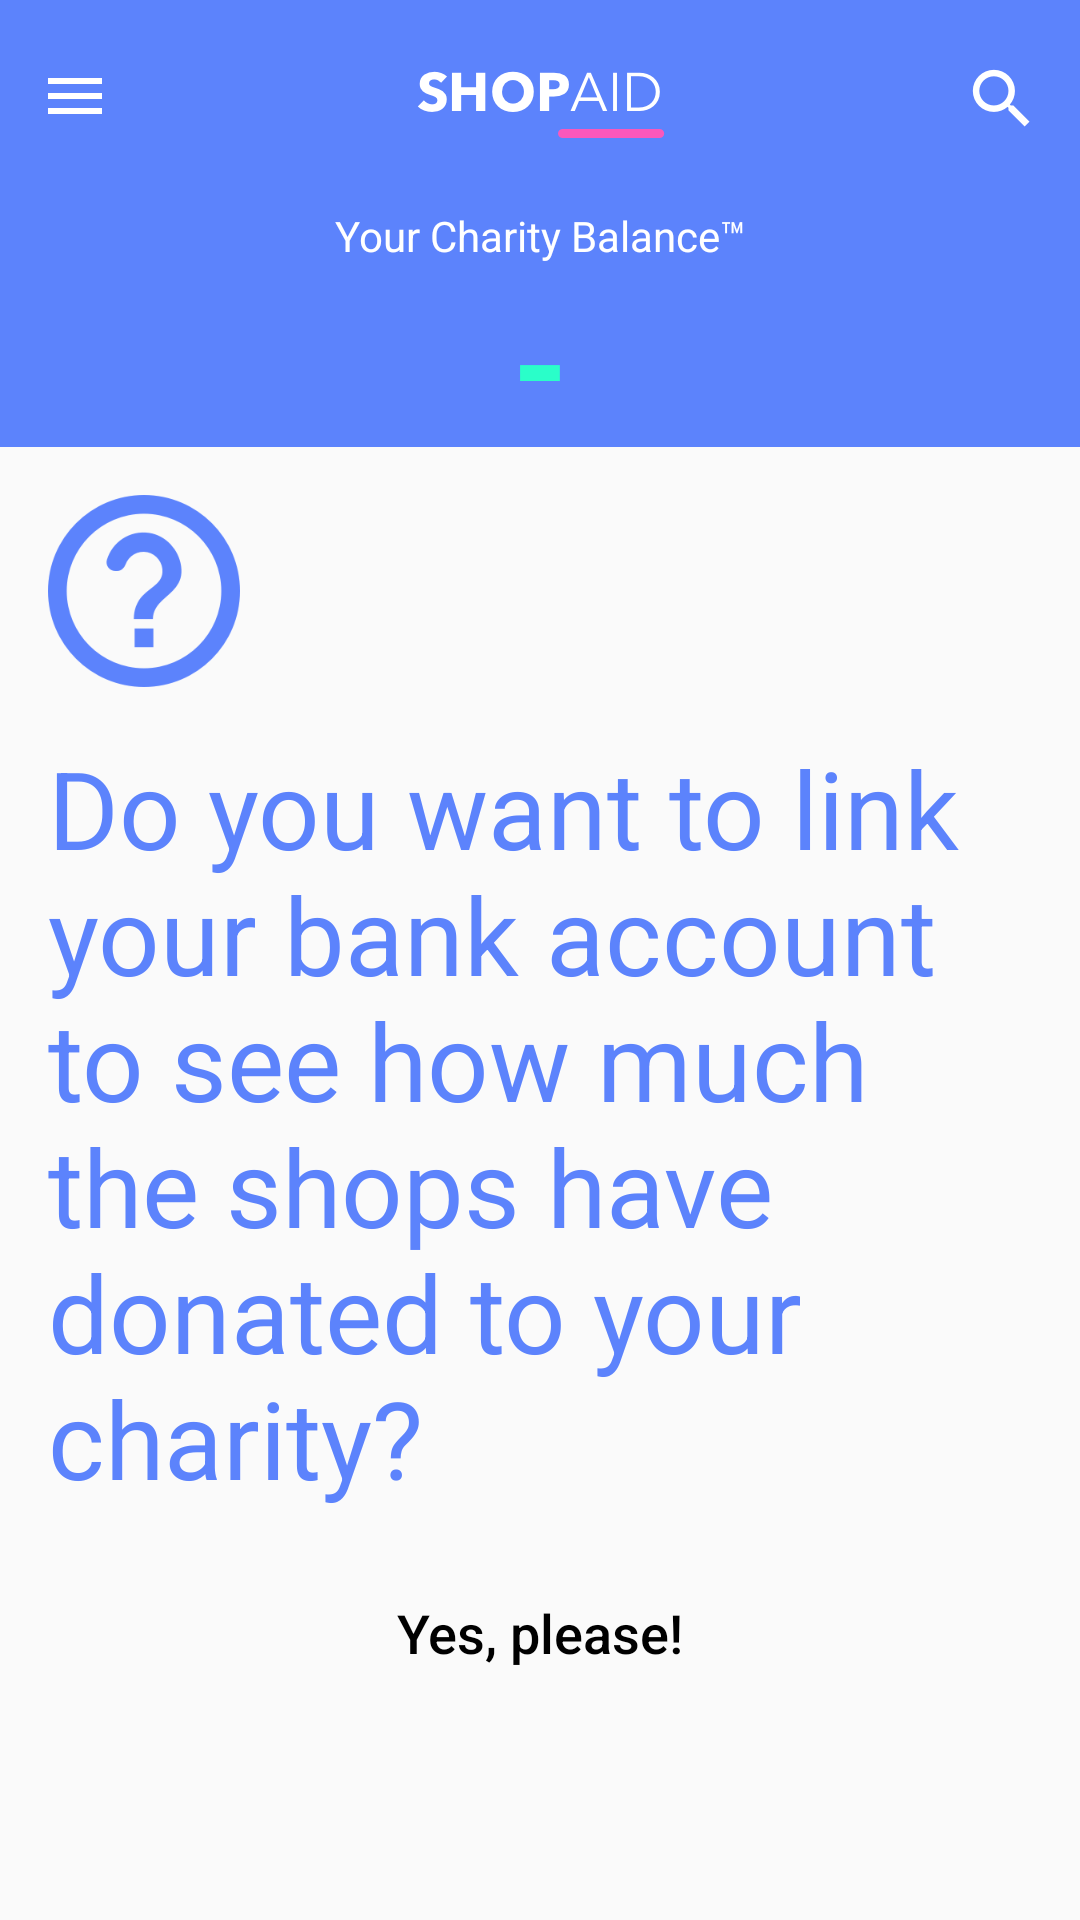

Screen size 1080w x 1920h. Icon name, then its box in pixels as (x1, y1, x2, y2):
questionmark: (48, 495, 240, 687)
